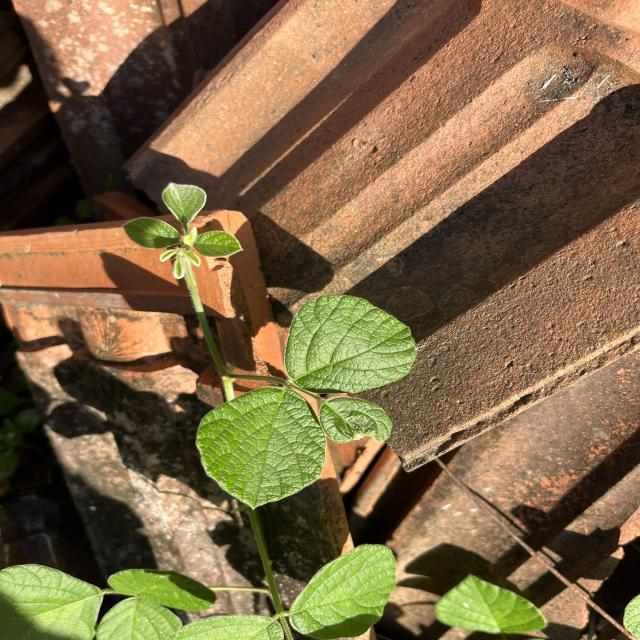Pseudarthria viscida: (194, 293, 418, 512)
